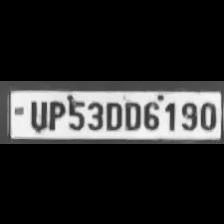0: (198, 99, 218, 129)
1: (161, 98, 177, 130)
3: (86, 97, 102, 130)
5: (64, 96, 86, 130)
6: (142, 98, 160, 130)
9: (178, 98, 198, 130)
D: (102, 98, 122, 130), (123, 98, 141, 130)
P: (45, 97, 63, 130)
U: (26, 98, 48, 130)
